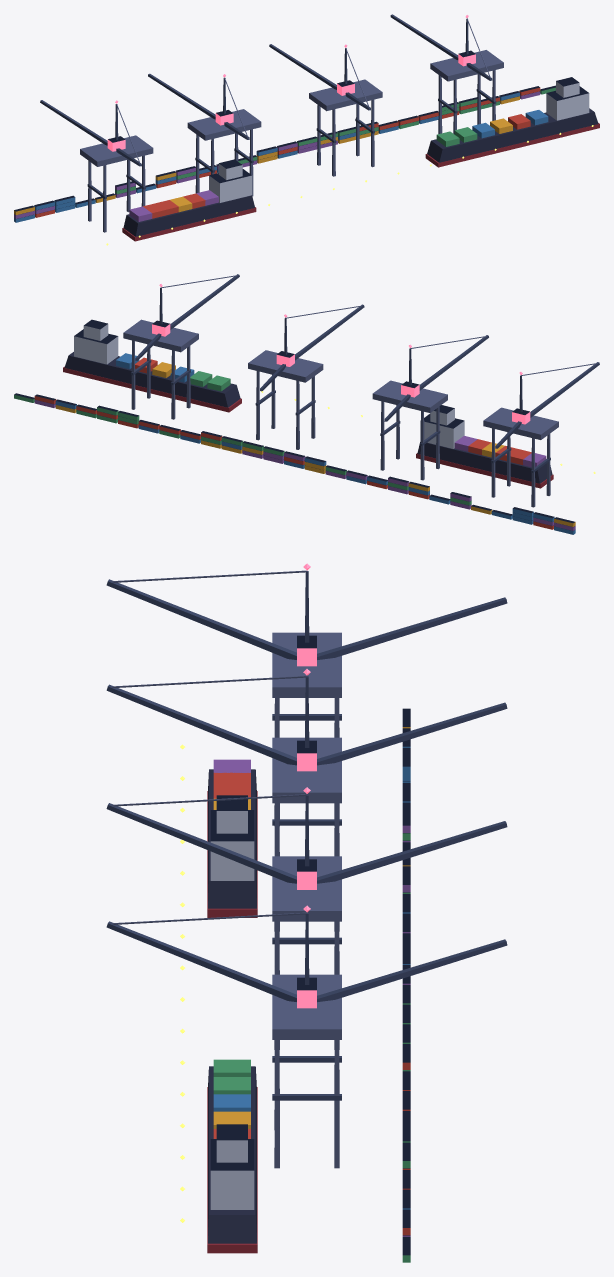
File: W1_Far_Harbor.fbx
3 renders of one model, top to bottom at view 1: azimuth 30°, elevation 25°; view 2: azimuth 150°, elevation 25°; view 3: azimuth 270°, elevation 25°, orthographic. The views are drawn at different scales.
Visible parts, largest first — view 1: W1_Far_Harbor; view 2: W1_Far_Harbor; view 3: W1_Far_Harbor.
Part boxes in pixels (left/top/right/bottom): W1_Far_Harbor: left=14, top=14, right=599, bottom=245; W1_Far_Harbor: left=14, top=274, right=599, bottom=534; W1_Far_Harbor: left=106, top=563, right=507, bottom=1262.
Bounding box in the file's own units: 404 × 86.08 × 129.
